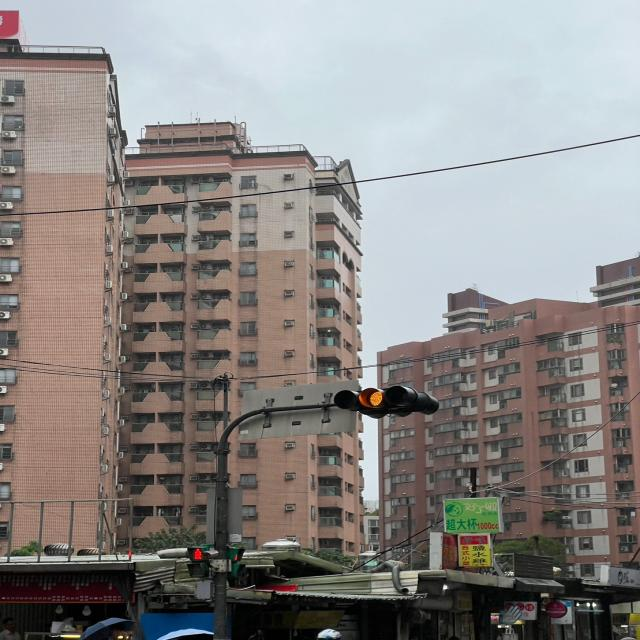red light: (188, 543, 207, 583)
yellow light: (334, 385, 421, 413)
